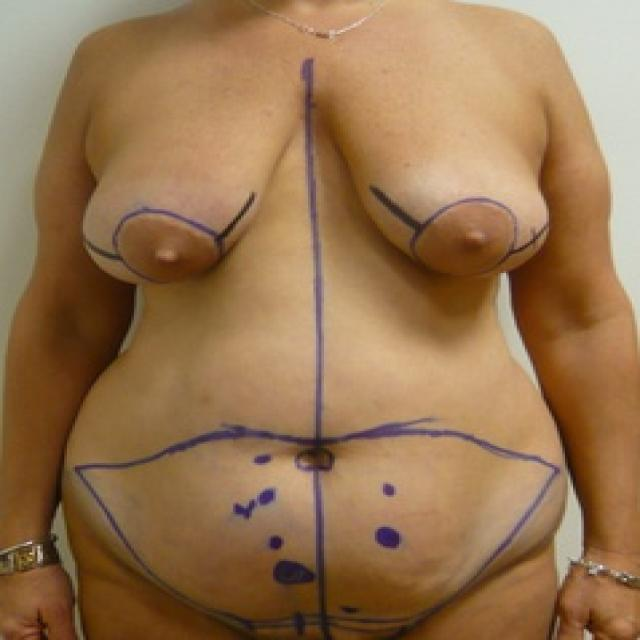Seno ileso: (314, 87, 556, 291), (76, 88, 304, 302)
